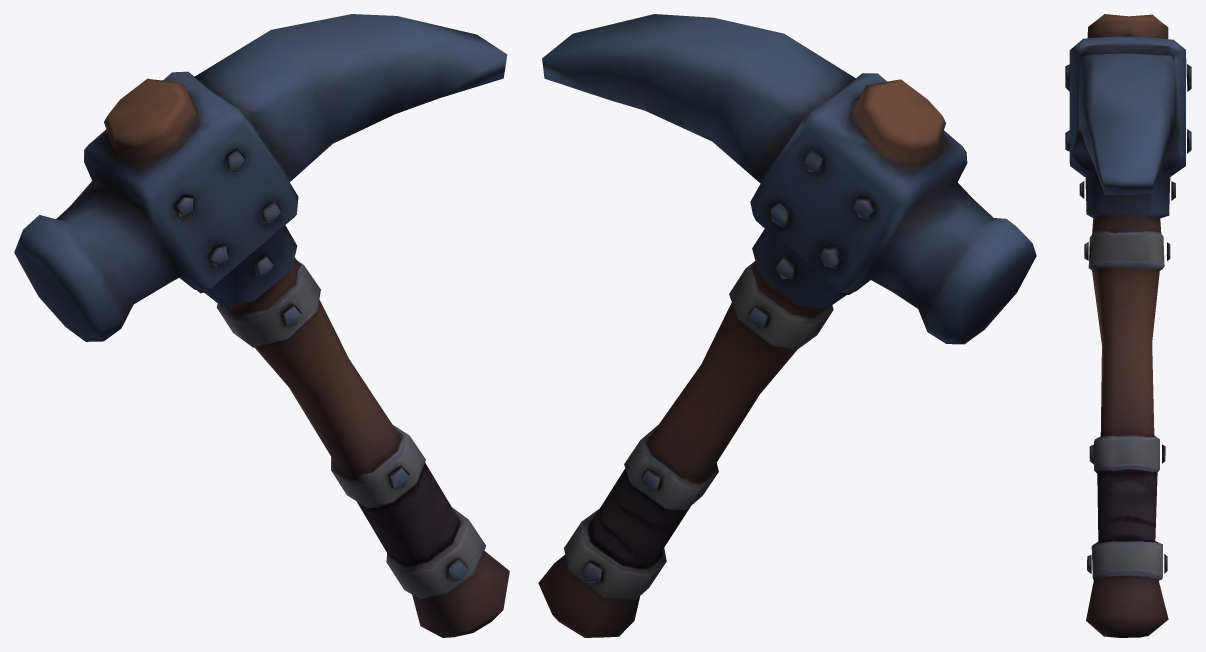
Rendered from thorium_mining_pick.glb.
The picture shows the model from 3 angles, left to right: view 1: azimuth 30°, elevation 25°; view 2: azimuth 150°, elevation 25°; view 3: azimuth 270°, elevation 25°; orthographic projection. The views are drawn at different scales.
Visible parts, largest first — view 1: tripo_node_6589de19-9e22-4045-ad2d-3541eef9cce7; view 2: tripo_node_6589de19-9e22-4045-ad2d-3541eef9cce7; view 3: tripo_node_6589de19-9e22-4045-ad2d-3541eef9cce7.
Part boxes in pixels (x1,y1,x2,y2): tripo_node_6589de19-9e22-4045-ad2d-3541eef9cce7: (14, 14, 509, 637); tripo_node_6589de19-9e22-4045-ad2d-3541eef9cce7: (538, 14, 1036, 637); tripo_node_6589de19-9e22-4045-ad2d-3541eef9cce7: (1065, 14, 1191, 637).
Size of the model in its own units: 1.14 by 1.45 by 0.3212.
1 material, 1 textured.
